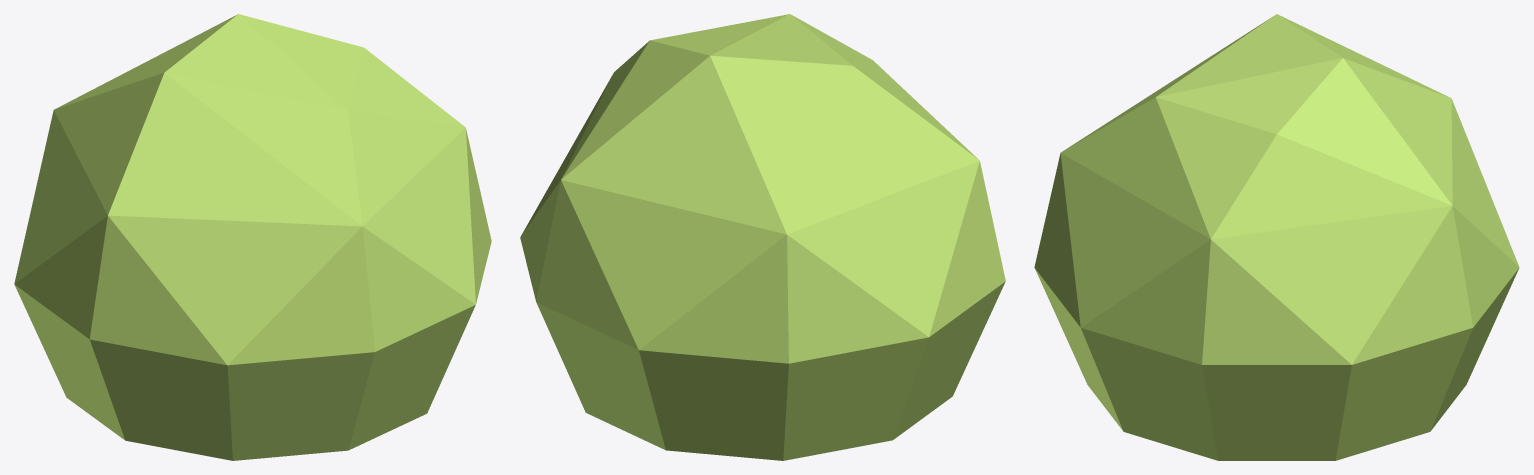
File: Bush_h_m_01.fbx
3 renders of one model, left to right at view 1: azimuth 30°, elevation 25°; view 2: azimuth 150°, elevation 25°; view 3: azimuth 270°, elevation 25°, orthographic. The views are drawn at different scales.
Parts seen in each view (by area): view 1: Bush_h_m_01; view 2: Bush_h_m_01; view 3: Bush_h_m_01.
Part boxes in pixels (<box>): Bush_h_m_01: <box>14,14,491,460</box>; Bush_h_m_01: <box>520,14,1005,460</box>; Bush_h_m_01: <box>1034,14,1519,460</box>.
Bounding box in the file's own units: 1.17 × 0.9412 × 1.23.
